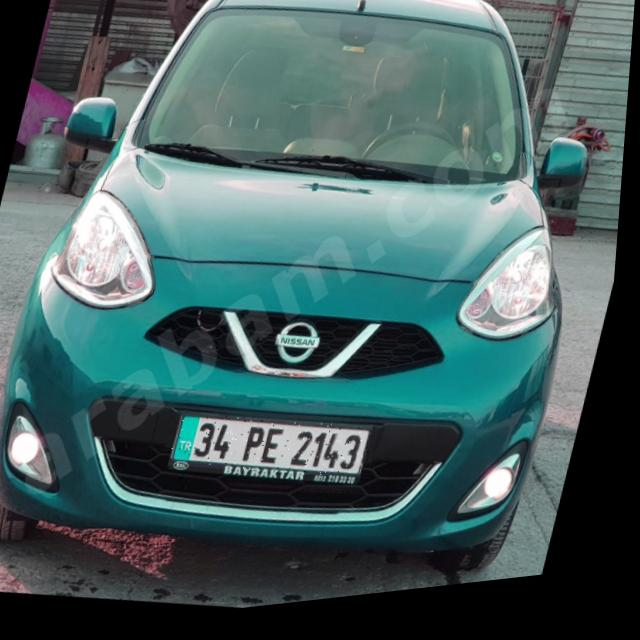license_plate: (173, 400, 382, 504)
